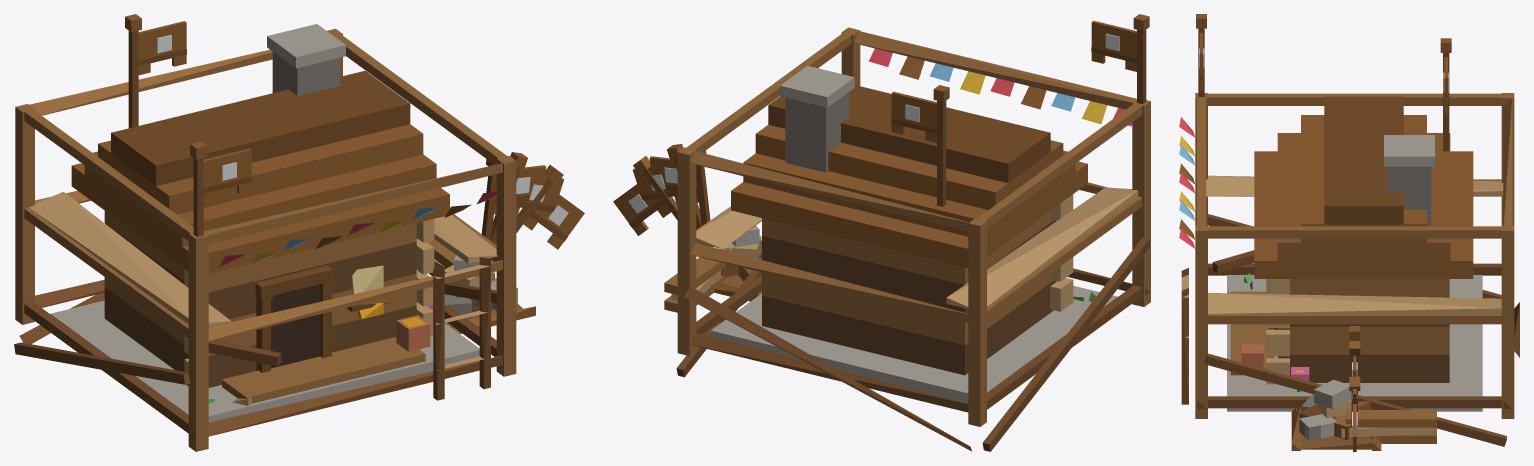
The model's file is bear-home.glb.
3 views of the same model, side by side, from view 1: azimuth 30°, elevation 25°; view 2: azimuth 150°, elevation 25°; view 3: azimuth 270°, elevation 25° (orthographic). The views are drawn at different scales.
Visible parts, largest first — view 1: scaffold-mesh, built-mesh, dismantle-25-mesh, dismantle-75-mesh, dismantle-50-mesh, banner, scaffold-banner, dismantle-25-banner, flag-pole, scaffold-flag-pole, dismantle-50-banner, dismantle-75-banner (+2 smaller); view 2: scaffold-mesh, built-mesh, dismantle-75-mesh, dismantle-25-mesh, dismantle-50-mesh, banner, scaffold-banner, dismantle-25-banner, flag-pole, scaffold-flag-pole, dismantle-50-banner, dismantle-75-banner (+2 smaller); view 3: scaffold-mesh, built-mesh, dismantle-75-mesh, dismantle-25-mesh, dismantle-50-mesh, flag-pole, scaffold-flag-pole.
Boxes of the visible parts, <box> form: scaffold-mesh: <box>14,28,516,451</box>; built-mesh: <box>71,24,479,422</box>; dismantle-25-mesh: <box>50,255,522,415</box>; dismantle-75-mesh: <box>50,194,491,415</box>; dismantle-50-mesh: <box>148,239,535,398</box>; banner: <box>138,21,186,75</box>; scaffold-banner: <box>203,148,251,202</box>; dismantle-25-banner: <box>523,188,584,249</box>; flag-pole: <box>125,14,141,128</box>; scaffold-flag-pole: <box>190,141,206,236</box>; dismantle-50-banner: <box>516,175,563,221</box>; dismantle-75-banner: <box>494,165,545,214</box>; scaffold-mesh: <box>664,27,1150,451</box>; built-mesh: <box>731,65,1094,311</box>; dismantle-75-mesh: <box>721,162,1050,392</box>; dismantle-25-mesh: <box>710,225,1117,403</box>; dismantle-50-mesh: <box>721,212,1081,392</box>; banner: <box>891,91,936,142</box>; scaffold-banner: <box>1091,20,1136,71</box>; dismantle-25-banner: <box>613,178,670,235</box>; flag-pole: <box>933,85,949,206</box>; scaffold-flag-pole: <box>1133,14,1149,104</box>; dismantle-50-banner: <box>632,164,677,209</box>; dismantle-75-banner: <box>649,156,698,202</box>; scaffold-mesh: <box>1179,93,1519,446</box>; built-mesh: <box>1218,96,1473,391</box>; dismantle-75-mesh: <box>1212,263,1449,450</box>; dismantle-25-mesh: <box>1227,273,1482,450</box>; dismantle-50-mesh: <box>1241,281,1449,450</box>; flag-pole: <box>1440,38,1451,151</box>; scaffold-flag-pole: <box>1196,14,1206,96</box>.
Bounding box in the file's own units: 2.7 × 1.82 × 1.87.
